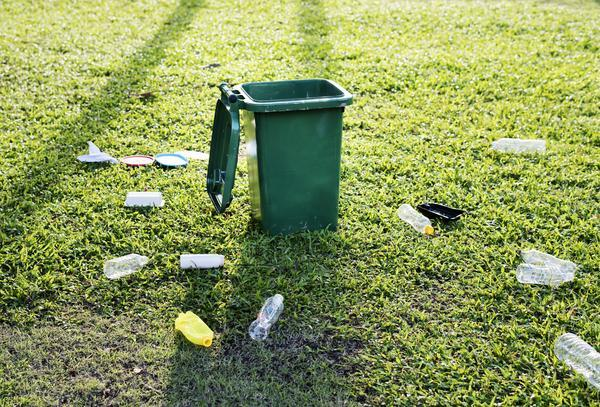bottle: (247, 287, 289, 348), (159, 301, 206, 355), (510, 259, 577, 295), (390, 201, 444, 242), (518, 242, 583, 274), (484, 129, 550, 160), (180, 250, 228, 275), (0, 248, 31, 286), (545, 362, 600, 366)
